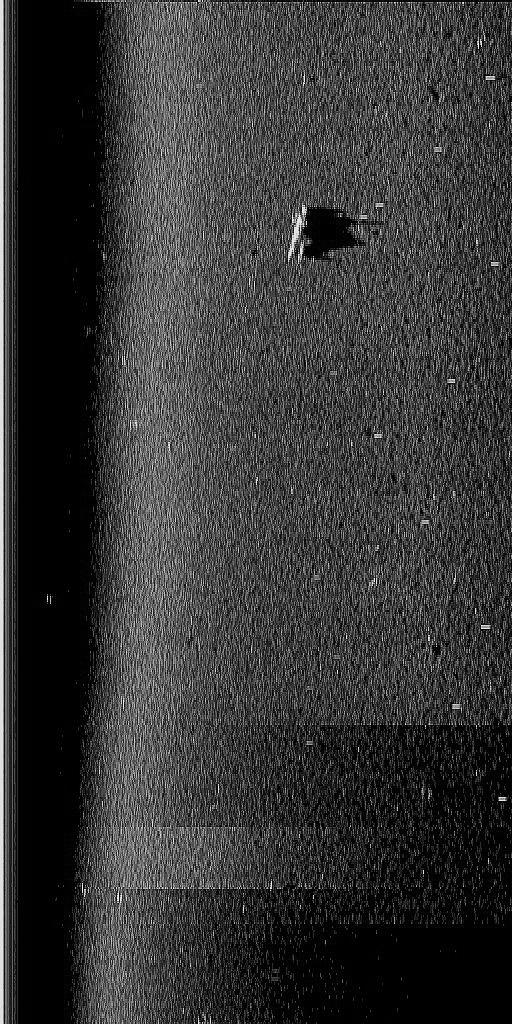man: (283, 200, 313, 265)
